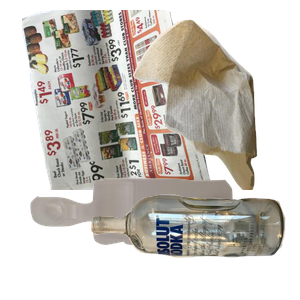glass: (88, 192, 300, 300)
paper: (19, 10, 223, 190)
plastic: (28, 176, 253, 300)
trash: (131, 17, 300, 197)
